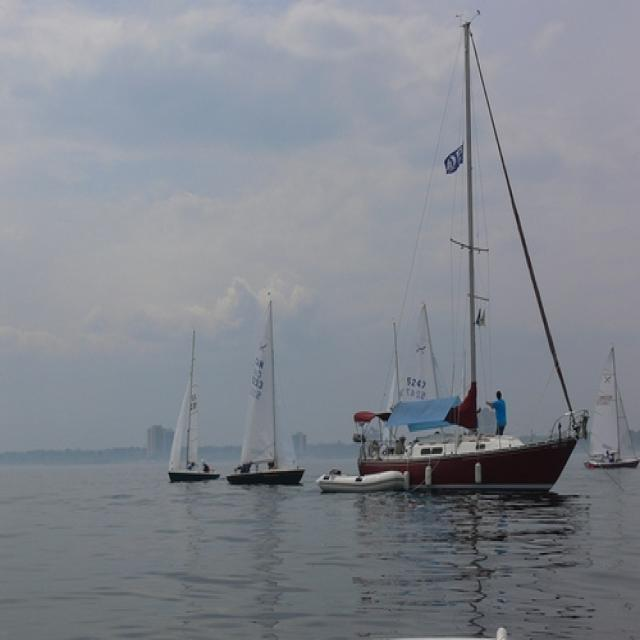Ship: (340, 20, 582, 503), (242, 297, 300, 487), (165, 330, 219, 485), (596, 343, 640, 478)
